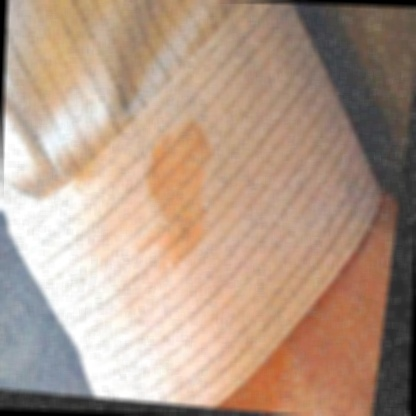kimchi: (122, 114, 221, 272)
